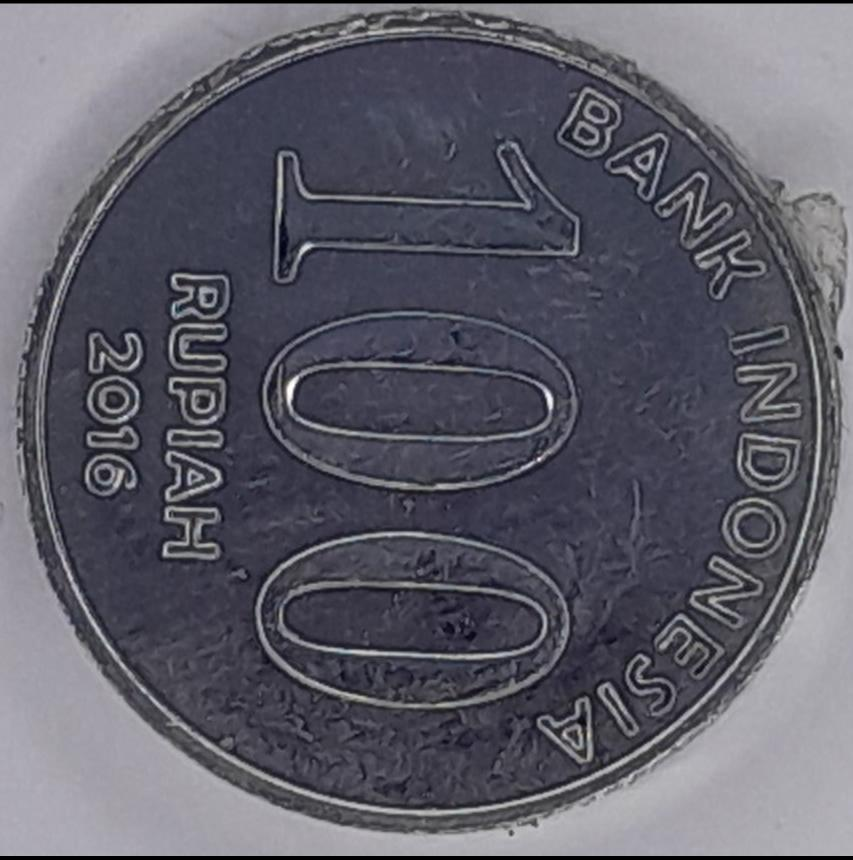coin_100_e2016: (11, 5, 851, 836)
